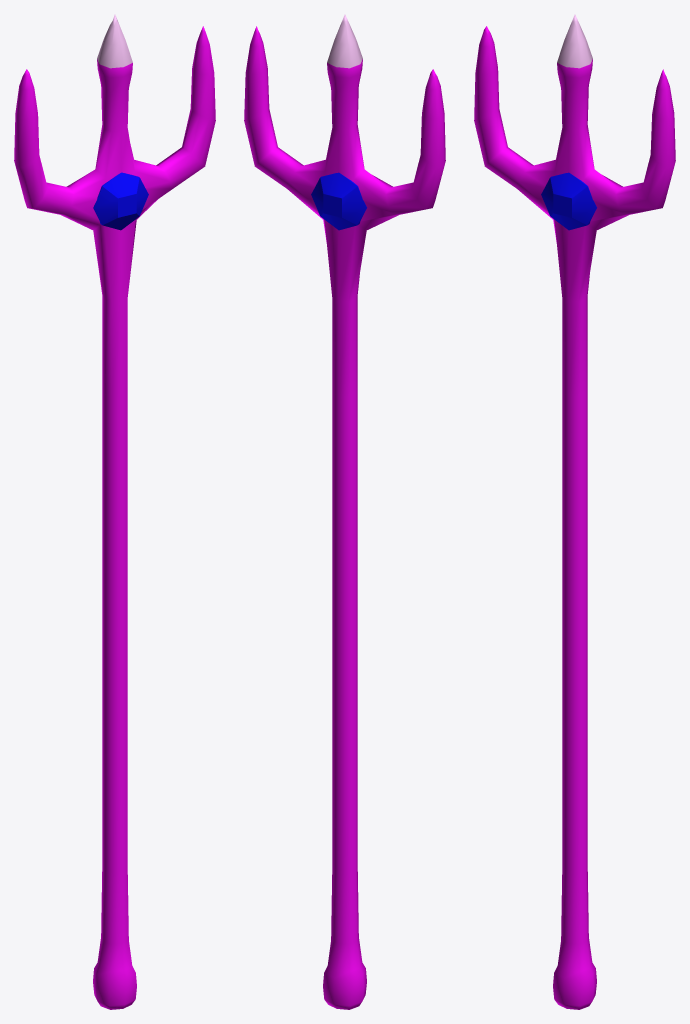
Rendered from Trident.fbx.
3 views of the same model, side by side, from view 1: azimuth 30°, elevation 25°; view 2: azimuth 150°, elevation 25°; view 3: azimuth 330°, elevation 25° (orthographic).
Parts seen in each view (by area): view 1: trident, gem; view 2: trident, gem; view 3: trident, gem.
Boxes of the visible parts, left/top/right/bottom form: trident: left=14, top=14, right=215, bottom=1009; gem: left=93, top=172, right=148, bottom=230; trident: left=244, top=14, right=445, bottom=1009; gem: left=311, top=172, right=366, bottom=230; trident: left=474, top=14, right=675, bottom=1009; gem: left=541, top=172, right=596, bottom=230.
Bounding box in the file's own units: 1.86 × 8.9 × 0.4.
